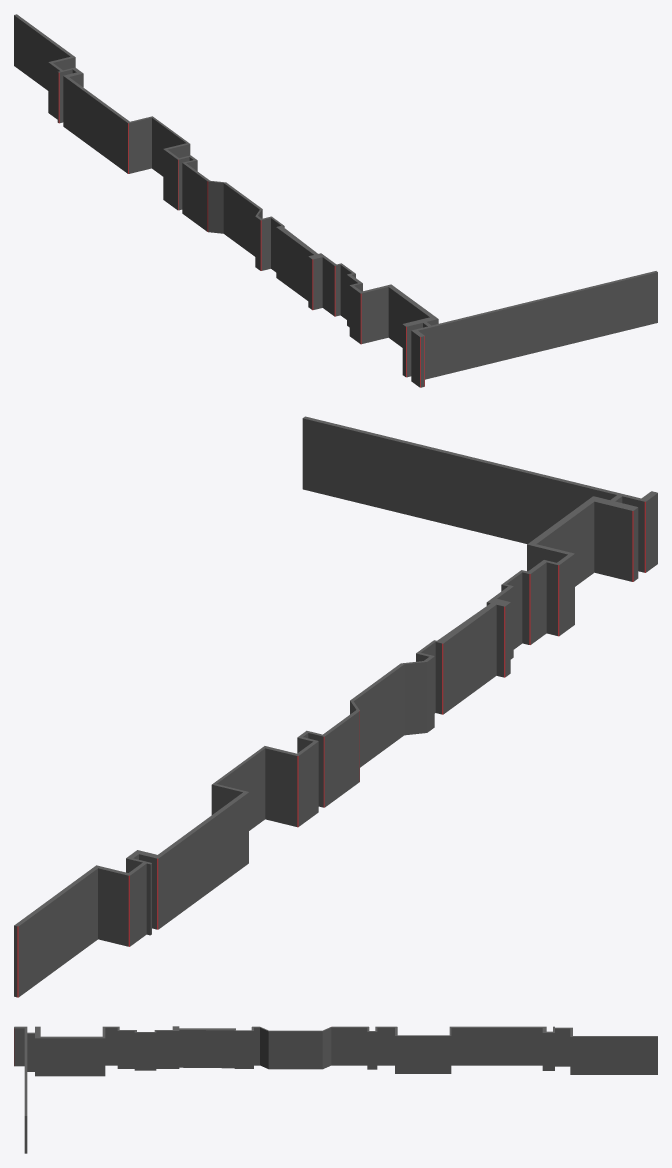
Rendered from TestRoomFour.fbx.
The picture shows the model from 3 angles, top to bottom: view 1: azimuth 30°, elevation 25°; view 2: azimuth 150°, elevation 25°; view 3: azimuth 270°, elevation 25°; orthographic projection. The views are drawn at different scales.
Parts seen in each view (by area): view 1: Cube.022; view 2: Cube.022; view 3: Cube.022.
Boxes of the visible parts, x1,y1,x2,y2 form: Cube.022: [14, 14, 657, 387]; Cube.022: [14, 416, 657, 997]; Cube.022: [14, 1026, 657, 1153].
Size of the model in its own units: 203 by 40 by 617.
